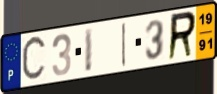3: (51, 33, 73, 77), (144, 18, 166, 62)
C: (21, 33, 48, 85)
I: (83, 26, 95, 74), (120, 21, 127, 69)
R: (166, 10, 198, 63)
